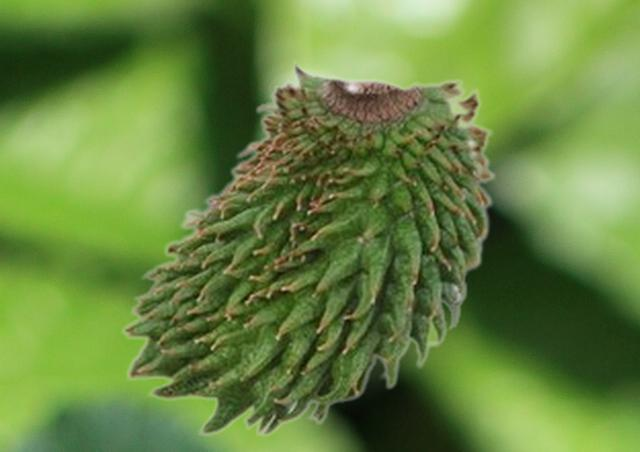guyabano: (119, 59, 496, 436)
